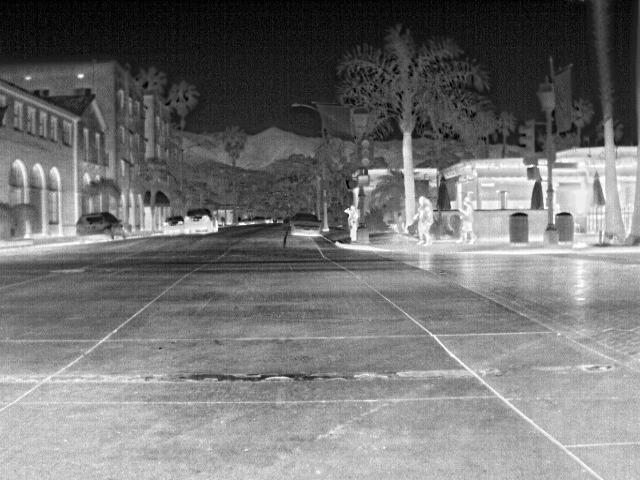car: (73, 212, 127, 246), (182, 207, 216, 234), (289, 211, 323, 236), (158, 216, 186, 237)
person: (457, 191, 478, 247), (412, 195, 426, 244), (346, 205, 359, 238)
